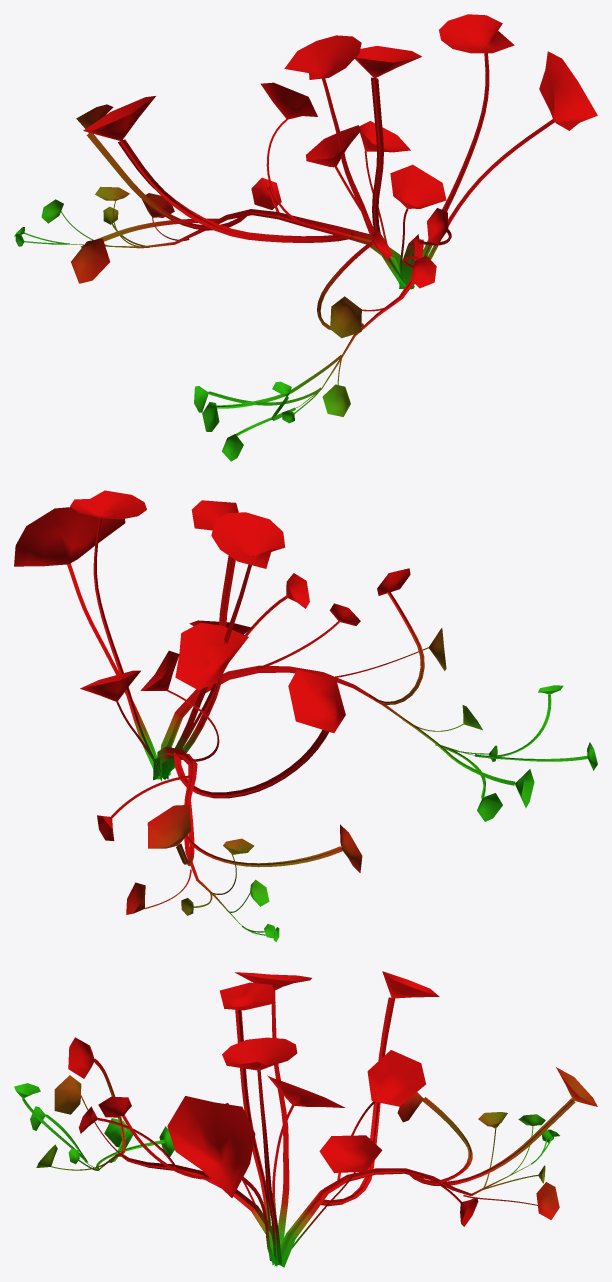
Rendered from Var5_LOD0.fbx.
3 renders of one model, top to bottom at view 1: azimuth 30°, elevation 25°; view 2: azimuth 150°, elevation 25°; view 3: azimuth 270°, elevation 25°, orthographic. The views are drawn at different scales.
Parts seen in each view (by area): view 1: _6116_Var5_LOD0; view 2: _6116_Var5_LOD0; view 3: _6116_Var5_LOD0.
Part boxes in pixels (x1,y1,x2,y2): _6116_Var5_LOD0: (14, 14, 597, 461); _6116_Var5_LOD0: (14, 490, 597, 941); _6116_Var5_LOD0: (14, 971, 597, 1267).
Size of the model in its own units: 33.26 by 19.16 by 36.2.
